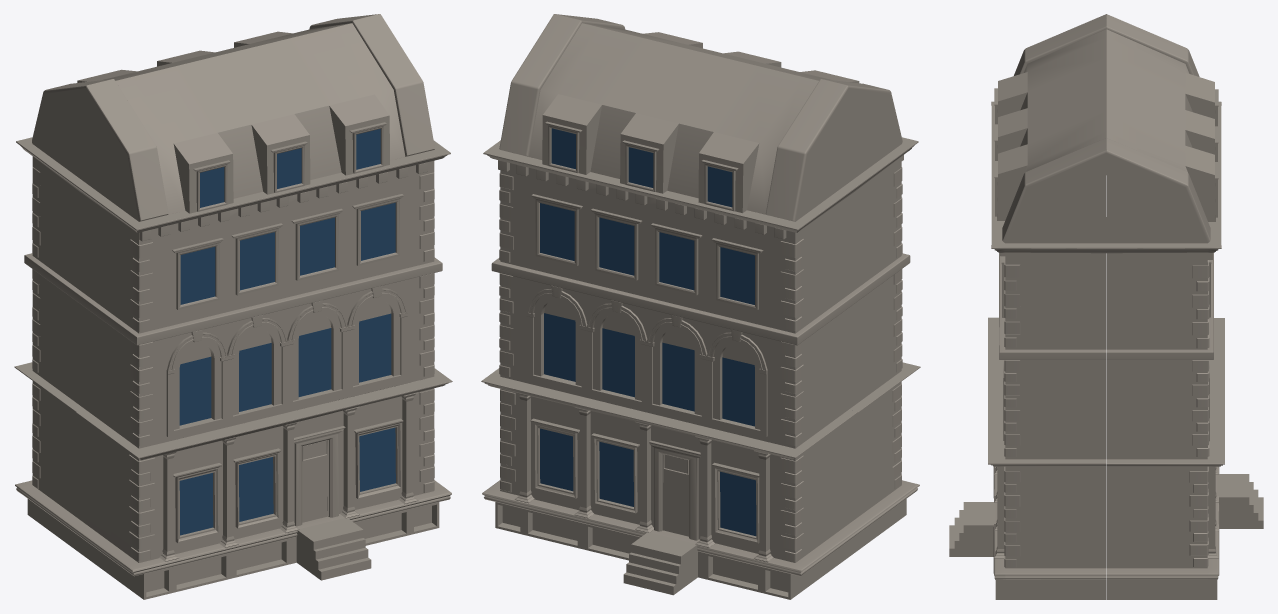
File: House.fbx
3 renders of one model, left to right at view 1: azimuth 30°, elevation 25°; view 2: azimuth 150°, elevation 25°; view 3: azimuth 270°, elevation 25°, orthographic. The views are drawn at different scales.
Visible parts, largest first — view 1: polySurface291; view 2: polySurface291; view 3: polySurface291.
Boxes of the visible parts, box(x1,y1,x2,y2) form: polySurface291: box(14, 14, 452, 599); polySurface291: box(481, 14, 920, 599); polySurface291: box(949, 14, 1263, 599).
Size of the model in its own units: 96.9 by 136 by 86.59.
